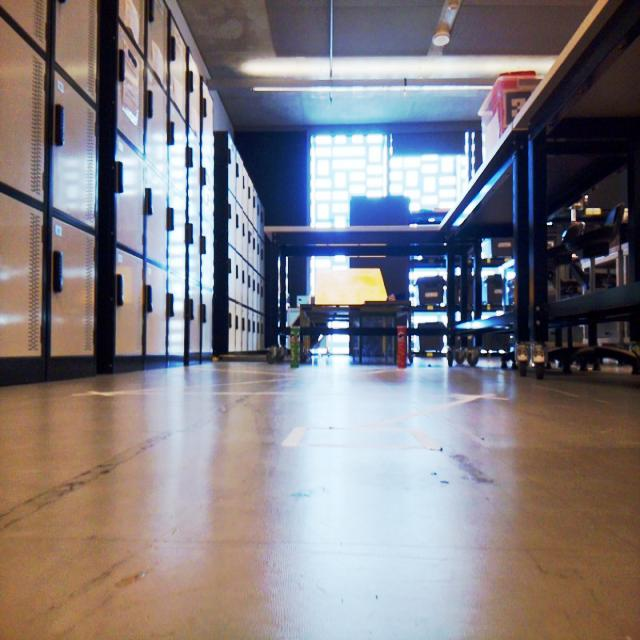greenpringles: (281, 319, 310, 374)
redpringles: (391, 321, 417, 379)
